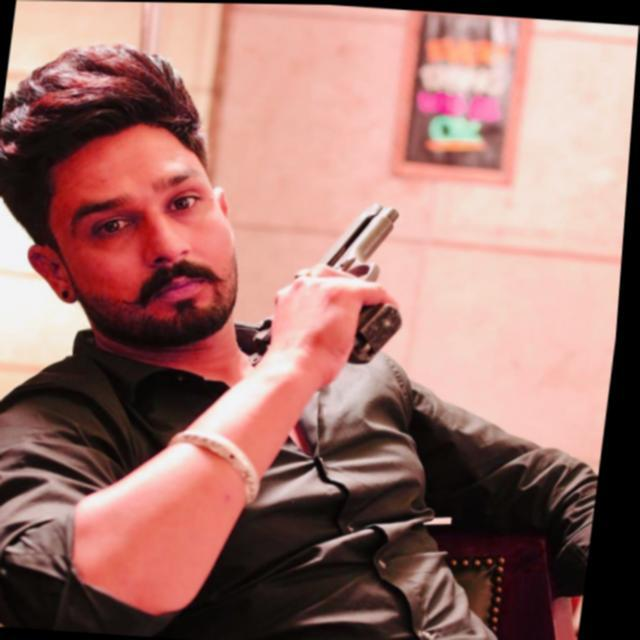weapon: (248, 192, 425, 378)
